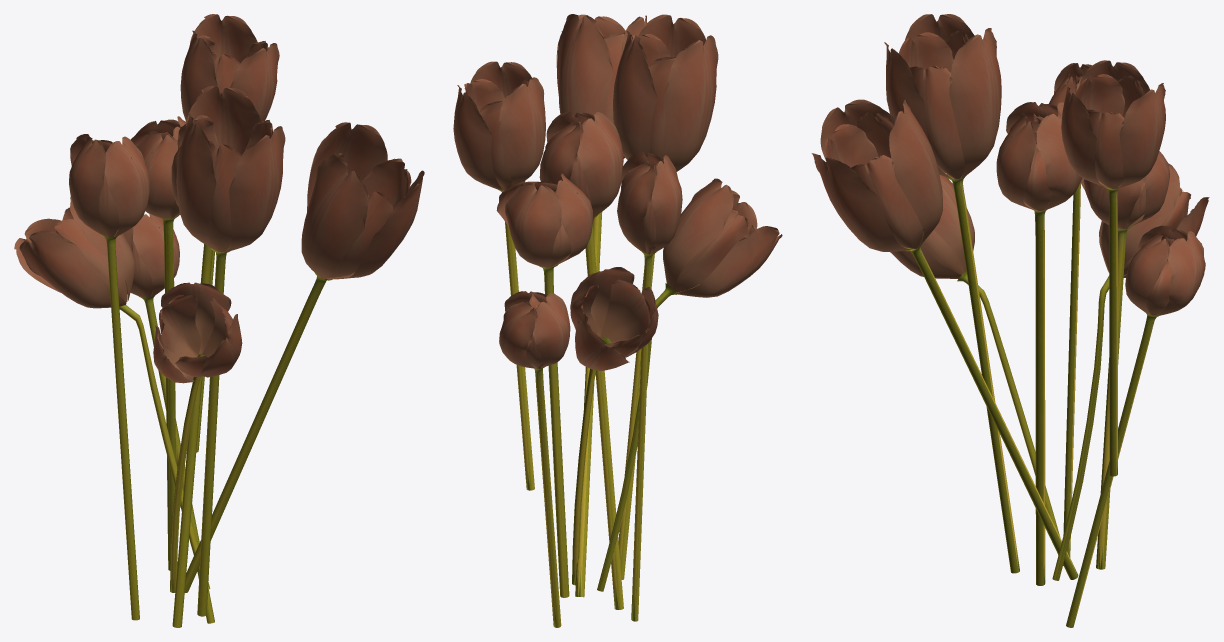
Rendered from RamoTulipanesMarrones.fbx.
3 views of the same model, side by side, from view 1: azimuth 30°, elevation 25°; view 2: azimuth 150°, elevation 25°; view 3: azimuth 270°, elevation 25° (orthographic). The views are drawn at different scales.
Parts seen in each view (by area): view 1: TulipanesMarrones, Line375, Line377, Line376, Line374; view 2: TulipanesMarrones, Line377, Line374, Line376, Line378, Line375; view 3: TulipanesMarrones, Line376, Line378, Line374.
Part boxes in pixels (box(x1,y1,x2,y2)): TulipanesMarrones: box(69, 14, 424, 627); Line375: box(19, 230, 126, 308); Line377: box(54, 219, 127, 302); Line376: box(70, 196, 134, 300); Line374: box(14, 218, 61, 292); TulipanesMarrones: box(453, 14, 782, 627); Line377: box(600, 279, 650, 341); Line374: box(575, 321, 629, 370); Line376: box(570, 267, 634, 336); Line378: box(570, 284, 599, 334); Line375: box(605, 287, 658, 357); TulipanesMarrones: box(811, 14, 1205, 627); Line376: box(1102, 164, 1179, 270); Line378: box(1123, 187, 1190, 274); Line374: box(1123, 197, 1209, 277).
Bounding box in the file's own units: 0.1359 × 0.1903 × 0.3051.
2 materials, 2 textured.
